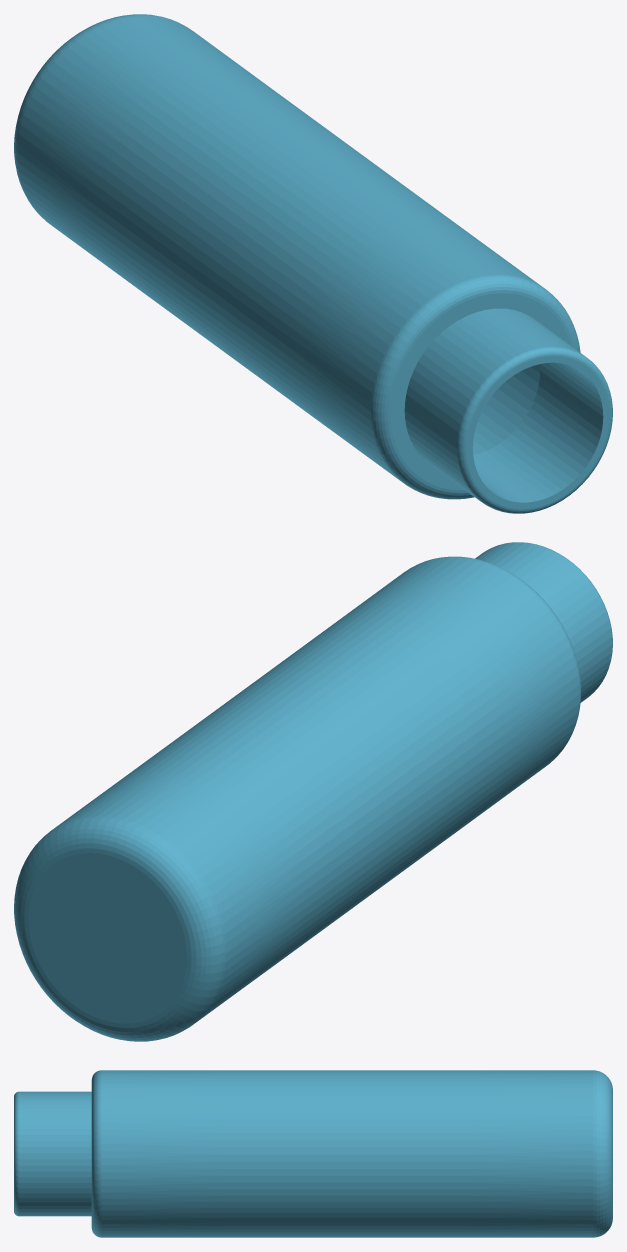
The model's file is body.obj.
The picture shows the model from 3 angles, top to bottom: view 1: azimuth 30°, elevation 25°; view 2: azimuth 150°, elevation 25°; view 3: azimuth 270°, elevation 25°; orthographic projection. The views are drawn at different scales.
Visible parts, largest first — view 1: 8Mm_Vial_Body; view 2: 8Mm_Vial_Body; view 3: 8Mm_Vial_Body.
Part boxes in pixels (bbox=[...]): 8Mm_Vial_Body: bbox=[14, 14, 612, 513]; 8Mm_Vial_Body: bbox=[14, 542, 612, 1041]; 8Mm_Vial_Body: bbox=[14, 1070, 612, 1237].
Bounding box in the file's own units: 0.0168 × 0.0168 × 0.0601.
